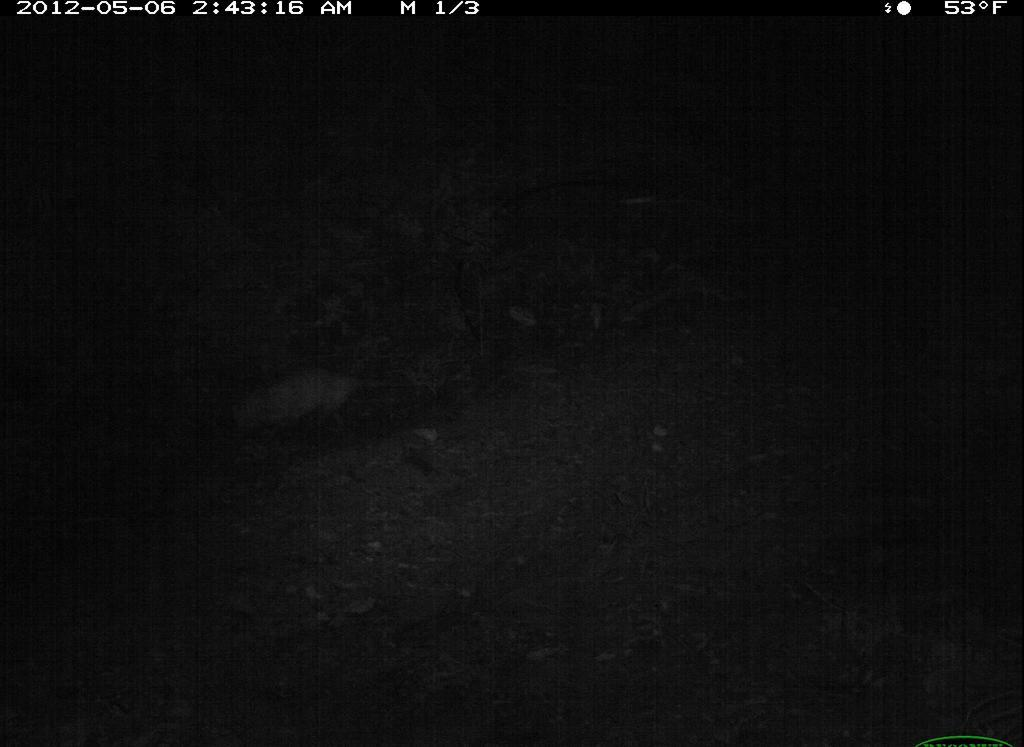opossum: (222, 369, 446, 447)
